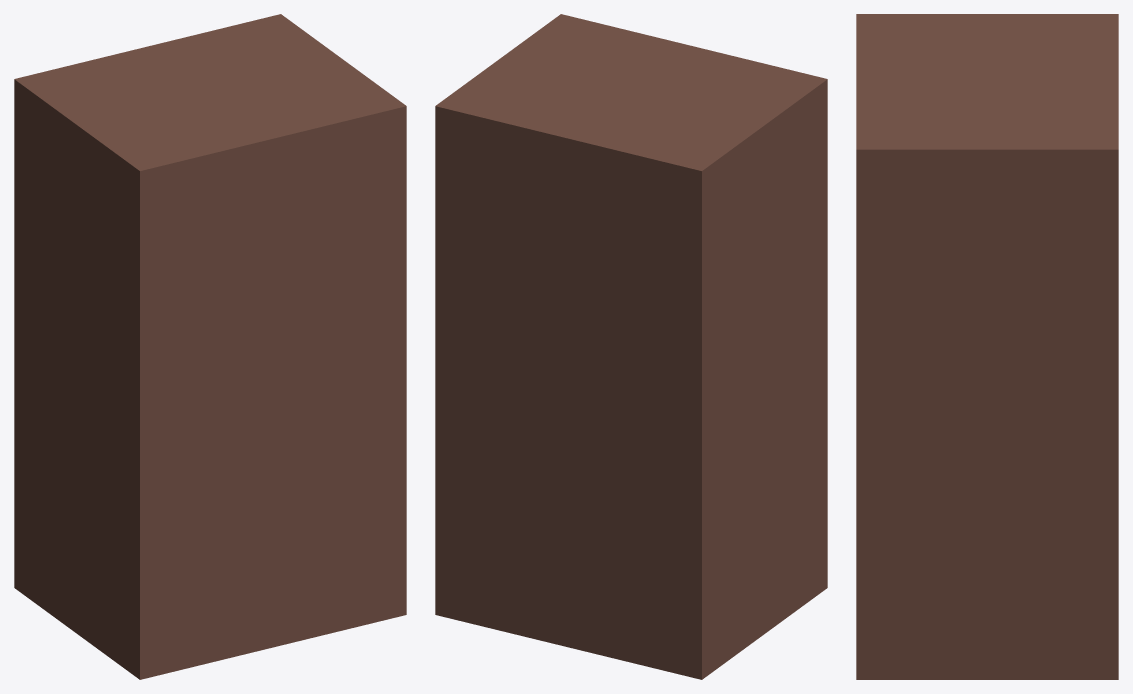
File: Brown cube.fbx
The picture shows the model from 3 angles, left to right: view 1: azimuth 30°, elevation 25°; view 2: azimuth 150°, elevation 25°; view 3: azimuth 270°, elevation 25°; orthographic projection. The views are drawn at different scales.
Parts seen in each view (by area): view 1: brown cube; view 2: brown cube; view 3: brown cube.
Part boxes in pixels (bbox=[...]): brown cube: bbox=[14, 14, 406, 679]; brown cube: bbox=[435, 14, 827, 679]; brown cube: bbox=[856, 14, 1118, 679].
Size of the model in its own units: 431 by 785 by 352.
